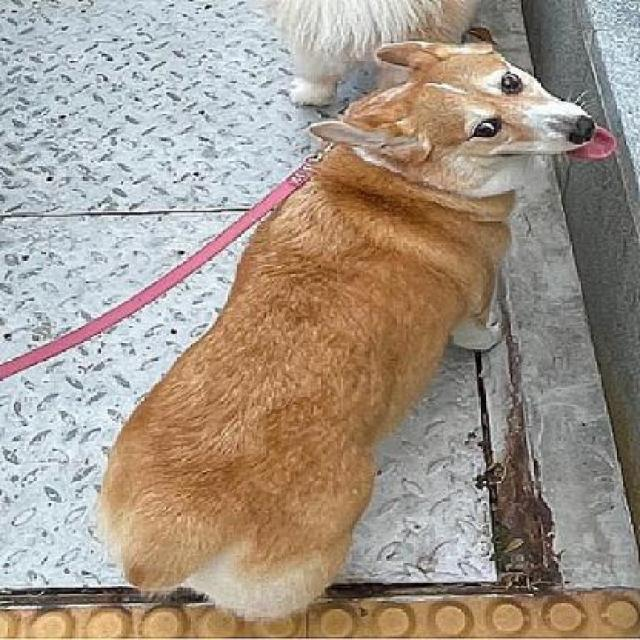Dog: (96, 33, 618, 624)
